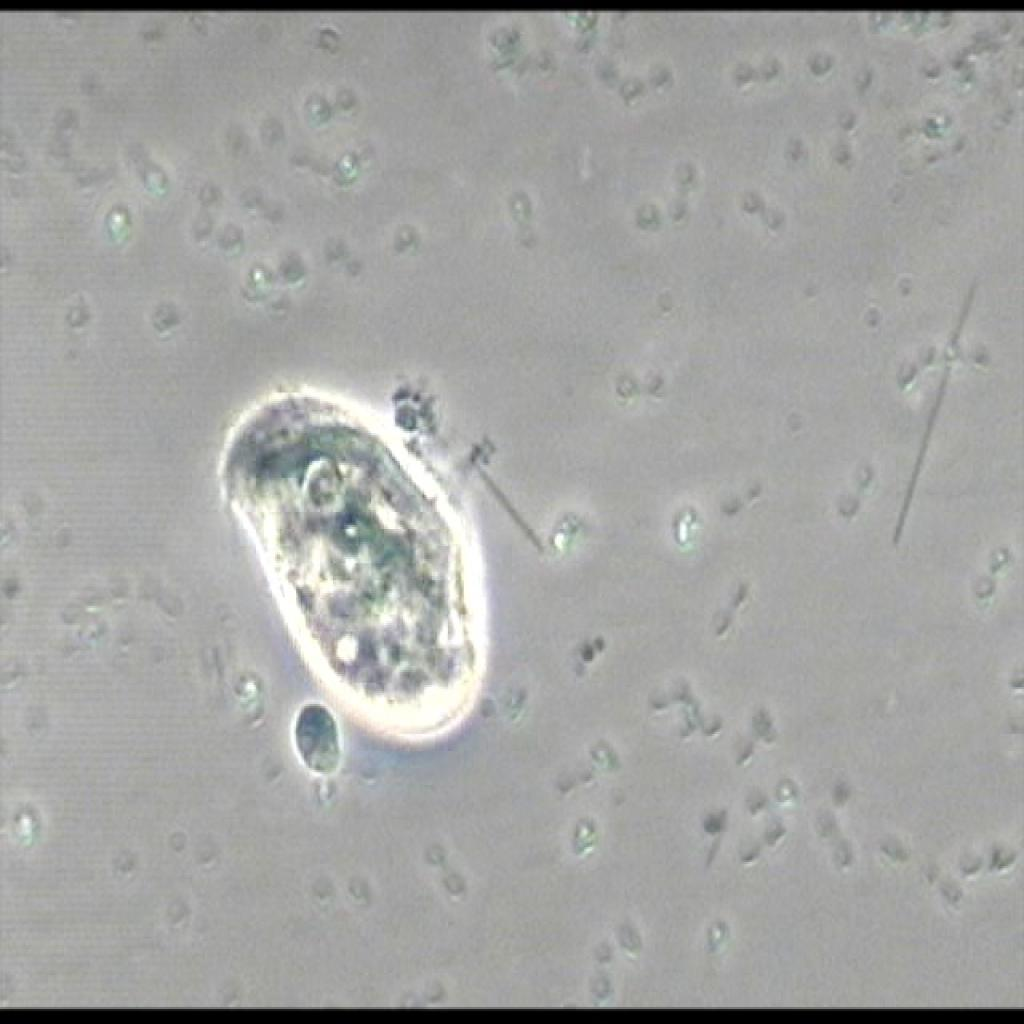Chilodonella: (170, 383, 496, 750)
